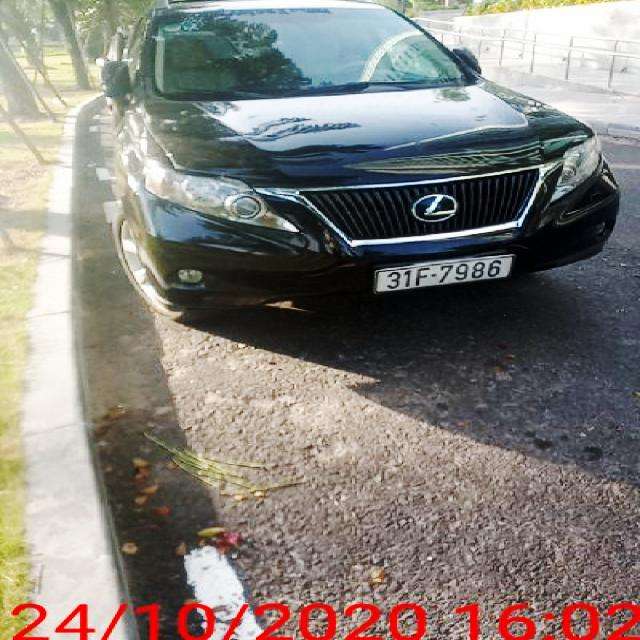license_plate: (374, 256, 512, 296)
